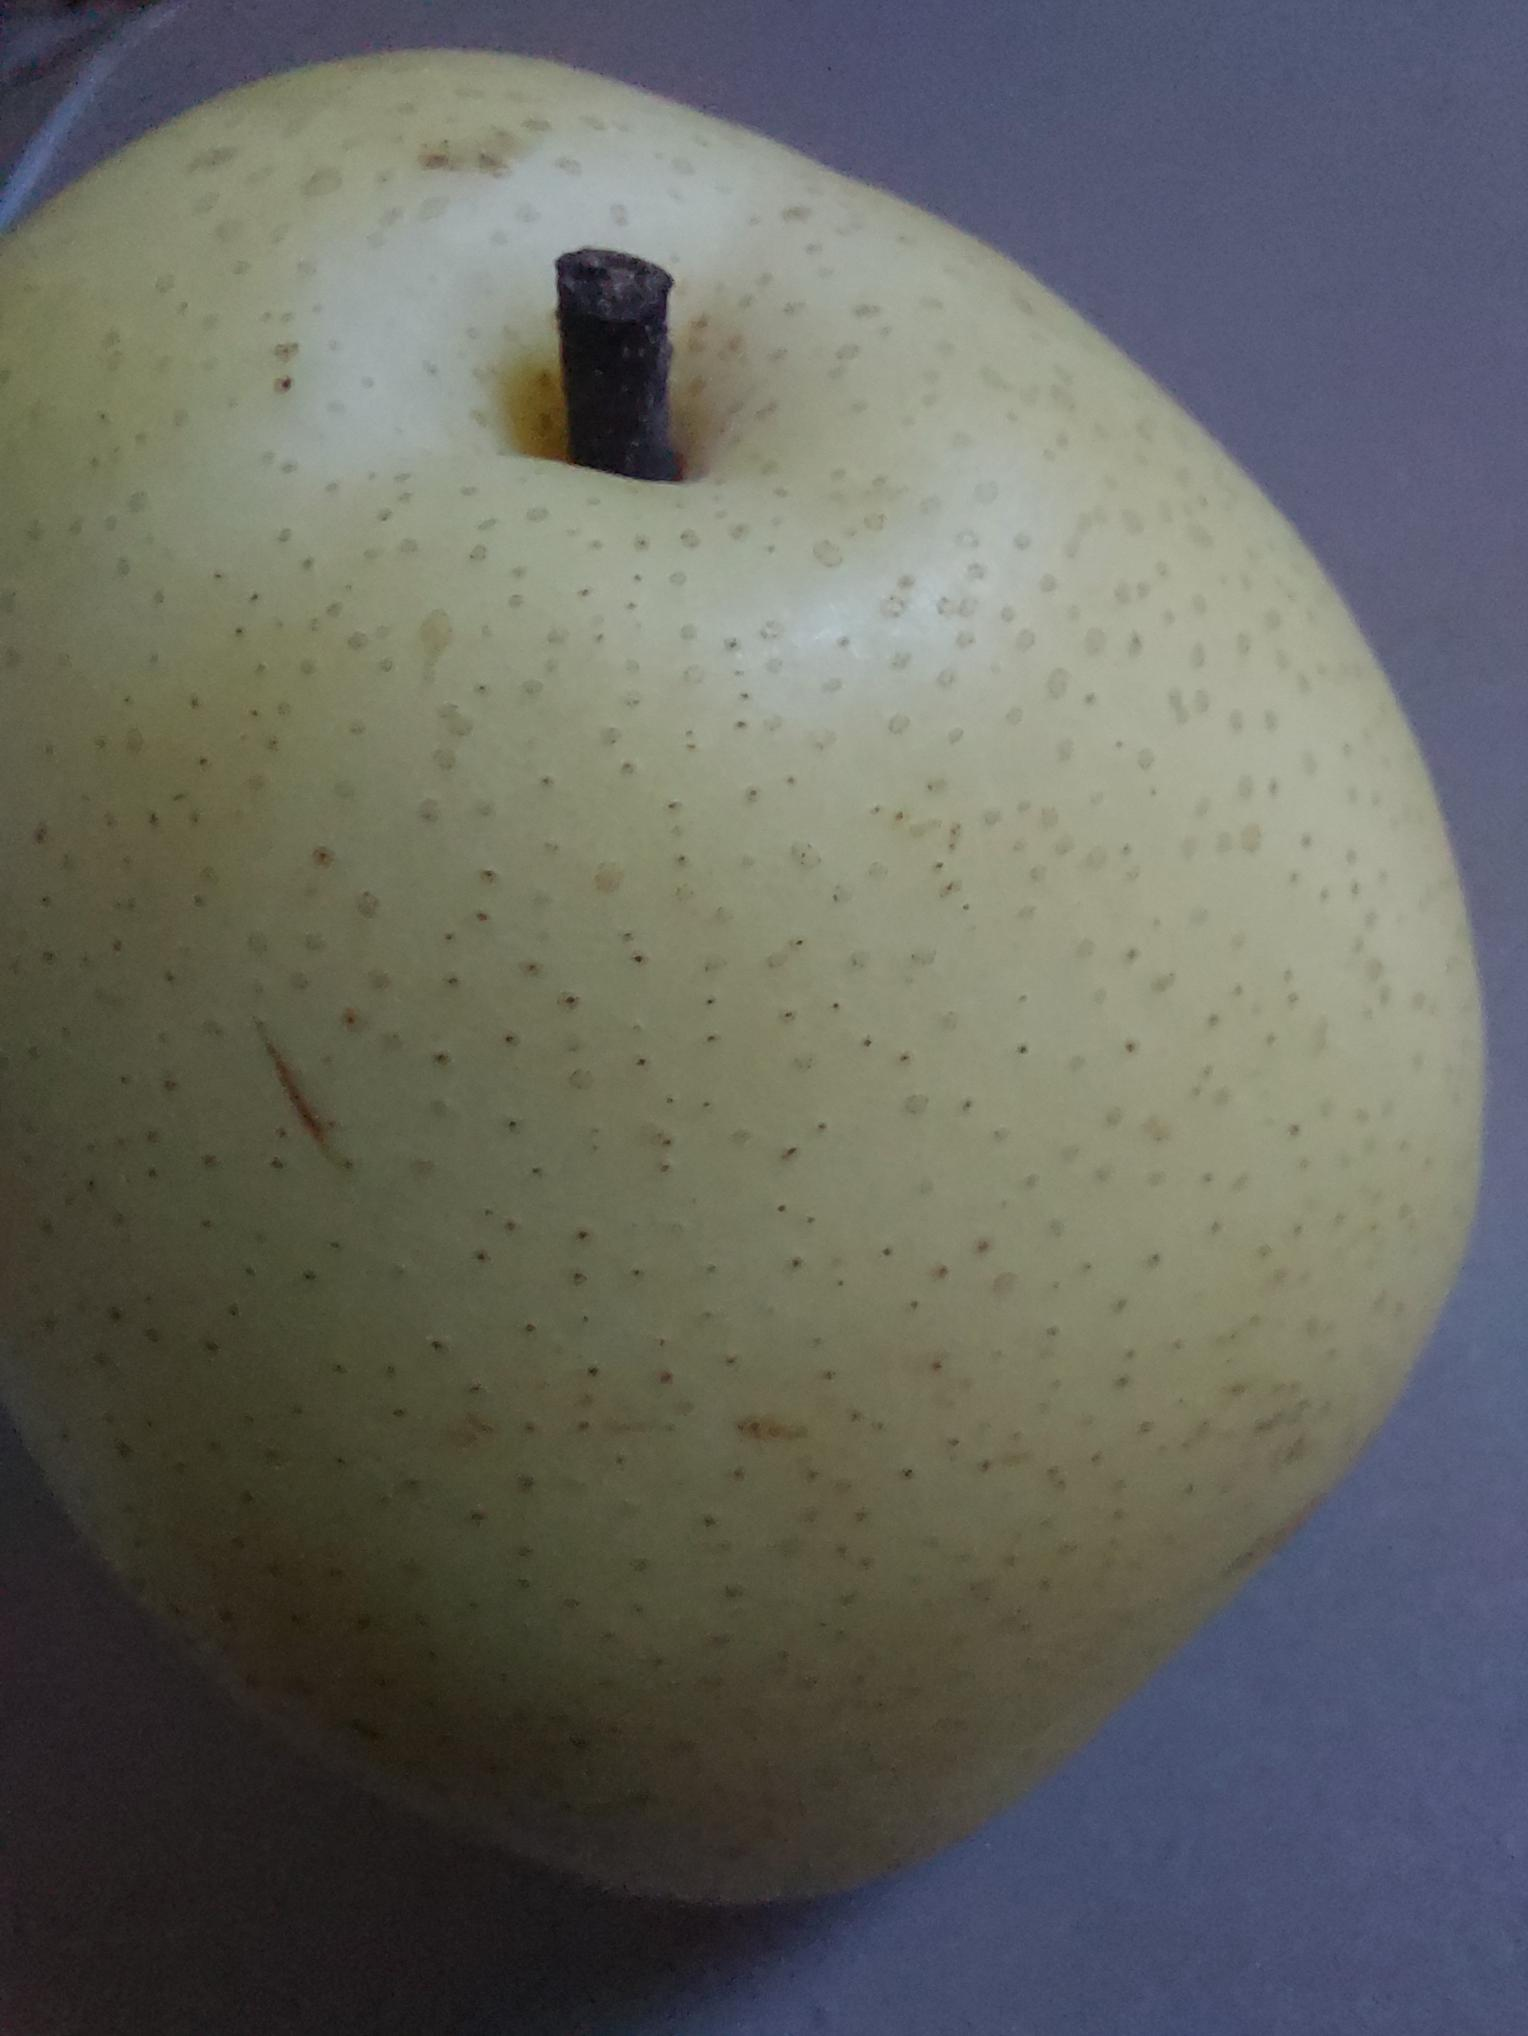Good Pear: (3, 27, 1528, 1973)
